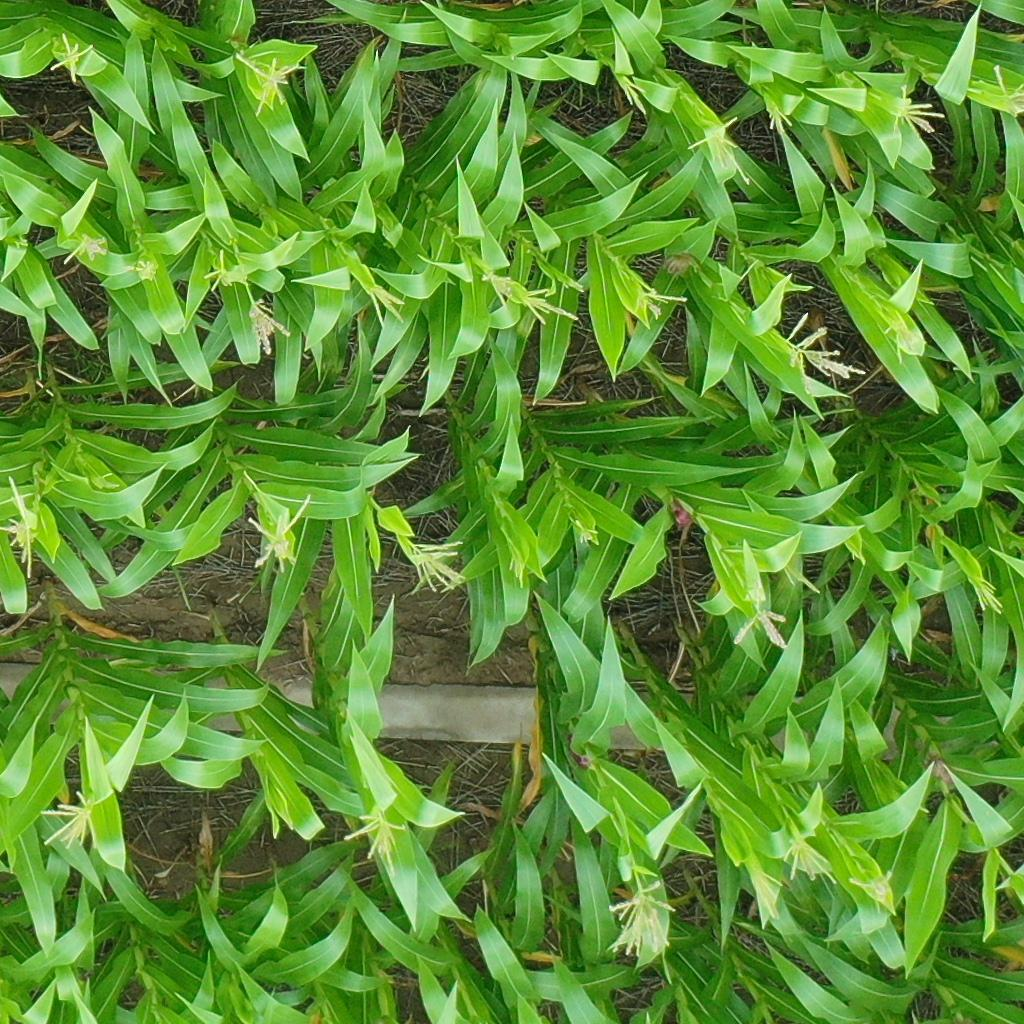Tassel: (778, 310, 870, 396), (608, 880, 676, 960), (684, 113, 755, 189), (36, 789, 119, 854), (241, 491, 308, 571), (732, 580, 795, 655), (1, 475, 46, 580), (235, 49, 302, 118), (885, 79, 950, 140), (339, 810, 411, 863), (407, 537, 469, 593), (784, 826, 838, 887), (45, 27, 95, 83), (519, 287, 580, 330), (247, 300, 291, 356), (627, 283, 690, 320), (985, 59, 1024, 118), (205, 250, 253, 296), (848, 868, 896, 912), (747, 868, 785, 923), (367, 283, 409, 332), (62, 231, 110, 268), (481, 268, 517, 308), (619, 74, 649, 118), (86, 462, 123, 494), (765, 99, 795, 138), (973, 577, 1004, 614), (504, 553, 533, 588), (559, 268, 590, 296), (133, 258, 160, 284), (575, 517, 599, 544)
